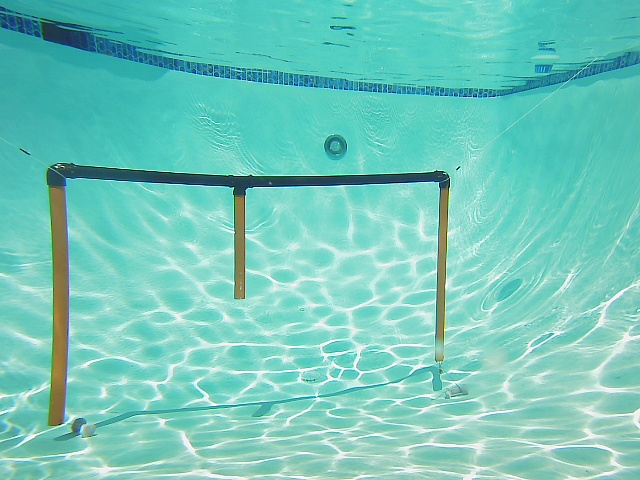Gate: (42, 179, 69, 421), (430, 182, 450, 370), (232, 189, 249, 302)
